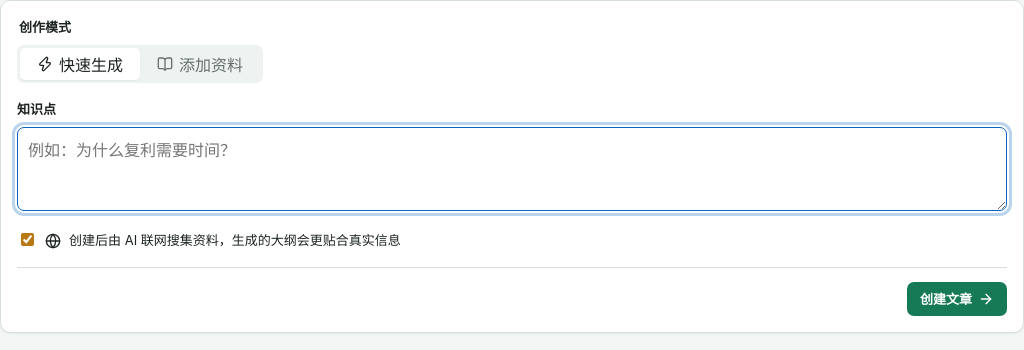
Test case: NewArticleForm › quick 模式默认联网搜集资料后再跳转
Expected: the checkbox is checked, [21, 233, 34, 246]
In the text box labelled "知识点": {"x": 512, "y": 169} [17, 127, 1007, 211], type "为什么天空是蓝色的"
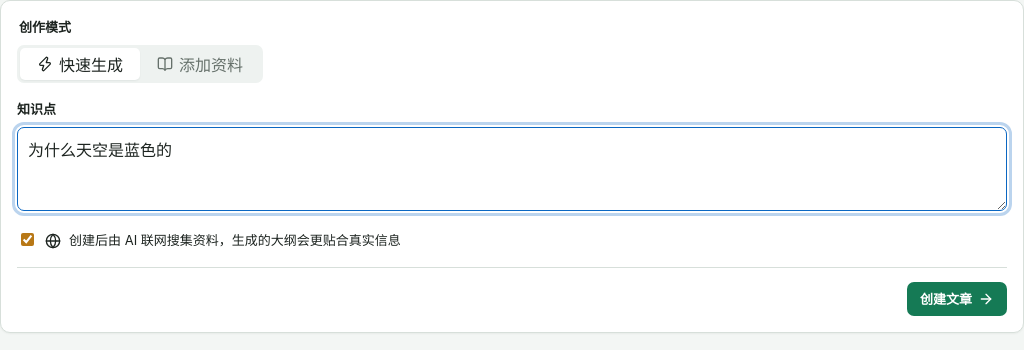
Click the button "创建文章": {"x": 957, "y": 298} [907, 282, 1007, 316]
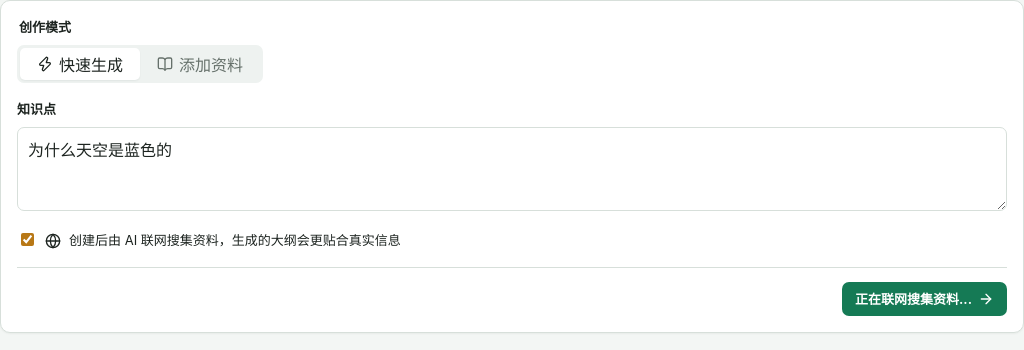
Expected: the button "正在联网搜集资料..." is shown, [842, 282, 1007, 316]
